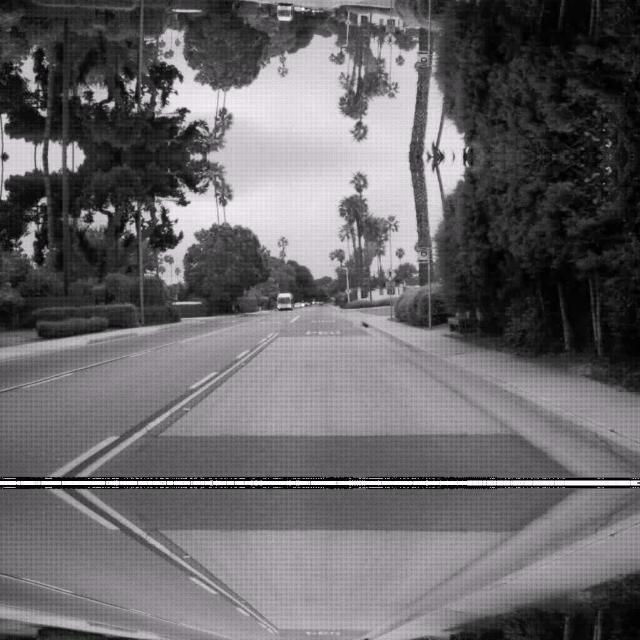pedestrianCrossing: (384, 266, 396, 280), (384, 32, 396, 46)
